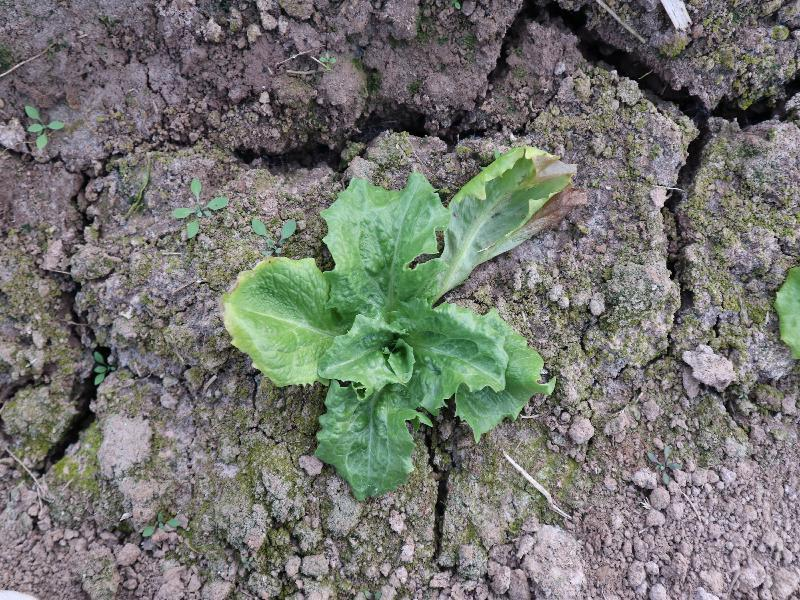lettuce: (220, 143, 577, 501)
